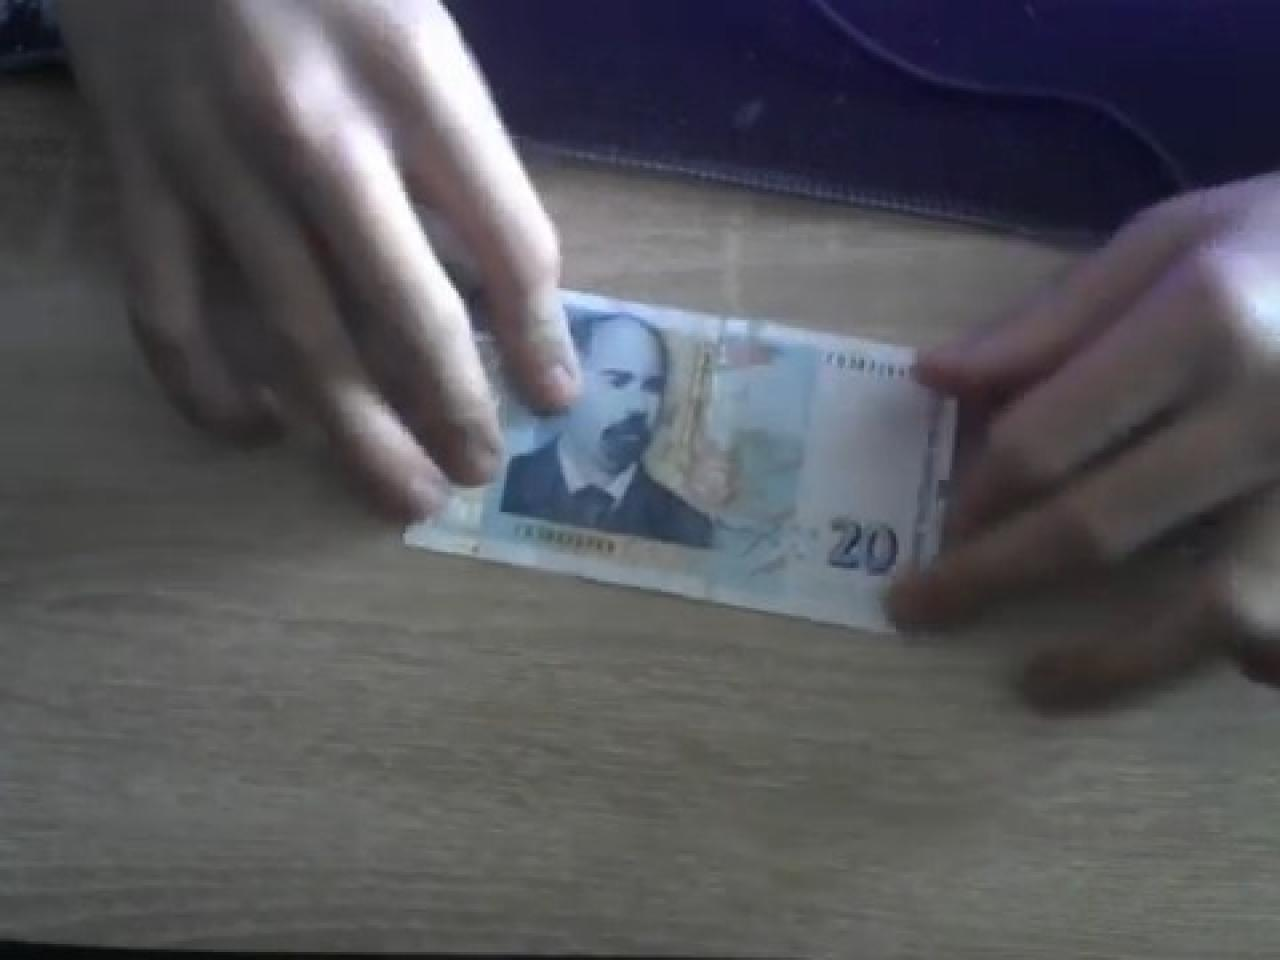20leva: (413, 293, 968, 632)
